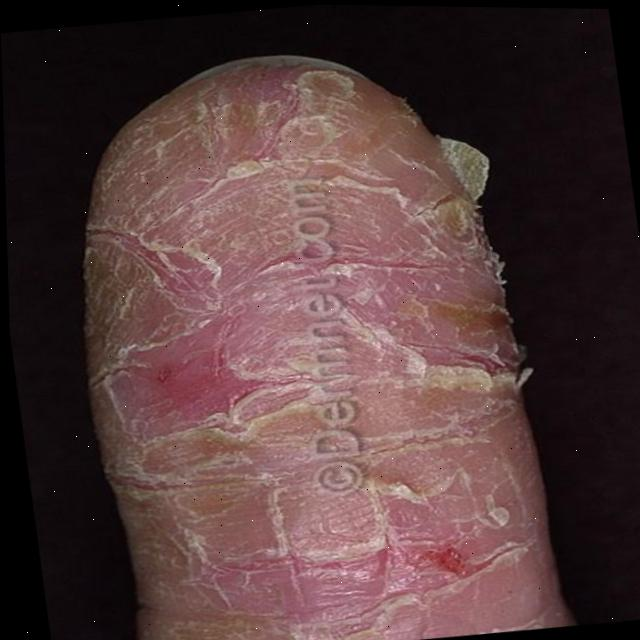Eczema: (65, 41, 557, 640)
